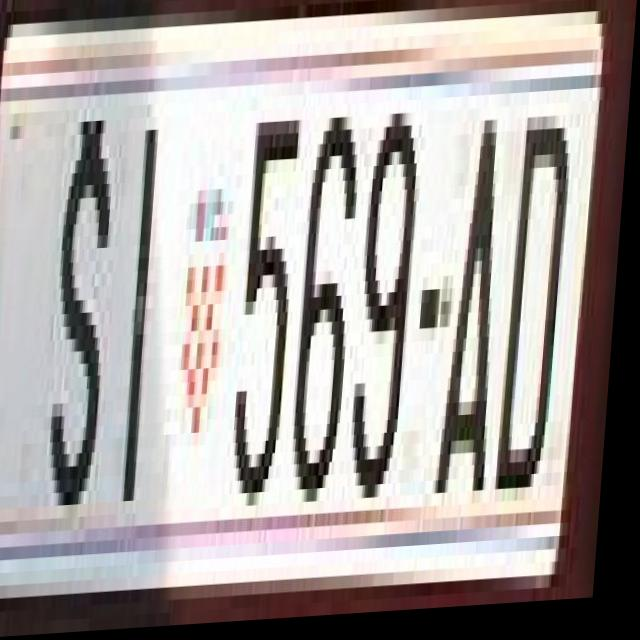5: (228, 98, 308, 511)
6: (291, 121, 365, 508)
9: (355, 118, 425, 505)
A: (440, 126, 513, 500)
D: (500, 110, 579, 510)
S: (46, 121, 126, 508)
